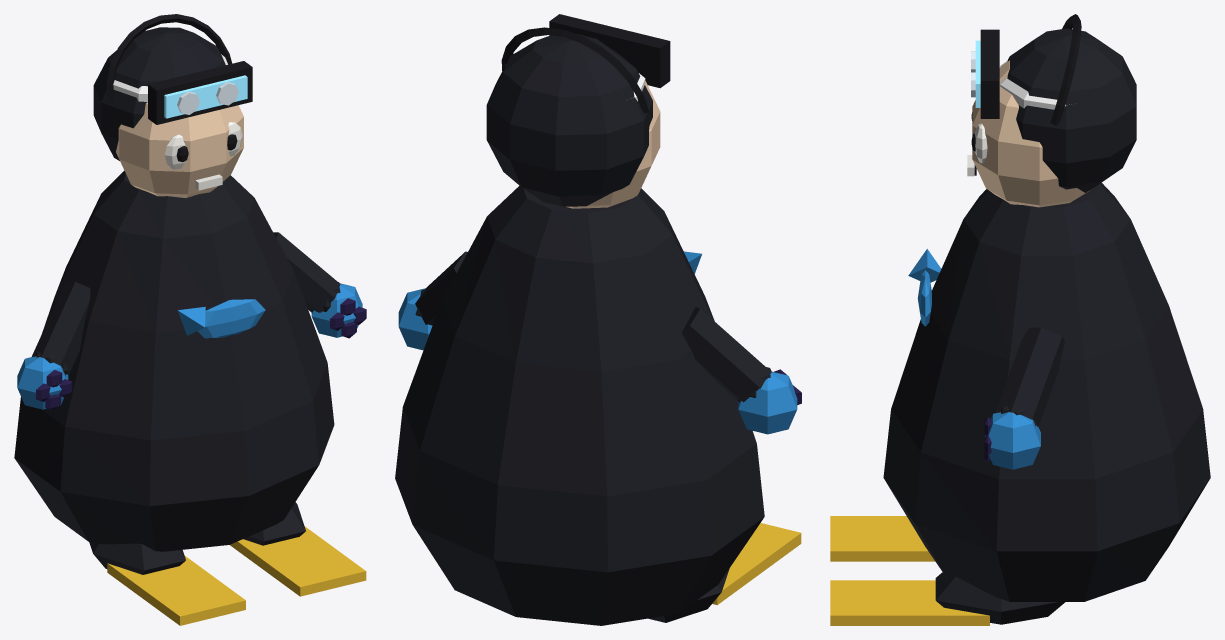
The model's file is npc_buzo.glb.
3 renders of one model, left to right at view 1: azimuth 30°, elevation 25°; view 2: azimuth 150°, elevation 25°; view 3: azimuth 270°, elevation 25°, orthographic. The views are drawn at different scales.
Parts seen in each view (by area): view 1: body_wetsuit, legs_flipper, head_skin_crema, hood_wetsuit, arms_wetsuit, mask_black, legs_wetsuit, body_wetsuit_trim, glove_left_wetsuit_trim, mask_mask_glass, glove_right_wetsuit_trim, ink_left_octopus_ink (+2 smaller); view 2: body_wetsuit, hood_wetsuit, arms_wetsuit, mask_black, legs_flipper, glove_left_wetsuit_trim, head_skin_crema, glove_right_wetsuit_trim, legs_wetsuit; view 3: body_wetsuit, hood_wetsuit, legs_flipper, head_skin_crema, arms_wetsuit, mask_black, legs_wetsuit, glove_right_wetsuit_trim, body_wetsuit_trim, hair_hair.
Part boxes in pixels (x1=…): body_wetsuit: x1=14, y1=170, x2=334, y2=551; legs_flipper: x1=107, y1=526, x2=366, y2=625; head_skin_crema: x1=116, y1=102, x2=243, y2=197; hood_wetsuit: x1=93, y1=27, x2=225, y2=160; arms_wetsuit: x1=31, y1=232, x2=340, y2=375; mask_black: x1=106, y1=14, x2=252, y2=124; legs_wetsuit: x1=89, y1=502, x2=305, y2=574; body_wetsuit_trim: x1=177, y1=299, x2=265, y2=338; glove_left_wetsuit_trim: x1=17, y1=356, x2=68, y2=409; mask_mask_glass: x1=164, y1=75, x2=247, y2=118; glove_right_wetsuit_trim: x1=311, y1=283, x2=362, y2=337; ink_left_octopus_ink: x1=36, y1=370, x2=72, y2=410; body_wetsuit: x1=395, y1=185, x2=764, y2=625; hood_wetsuit: x1=486, y1=34, x2=652, y2=206; arms_wetsuit: x1=415, y1=251, x2=771, y2=402; mask_black: x1=501, y1=14, x2=670, y2=113; legs_flipper: x1=712, y1=523, x2=801, y2=605; glove_left_wetsuit_trim: x1=738, y1=371, x2=797, y2=434; head_skin_crema: x1=566, y1=81, x2=660, y2=208; glove_right_wetsuit_trim: x1=398, y1=288, x2=432, y2=350; legs_wetsuit: x1=648, y1=568, x2=729, y2=622; body_wetsuit: x1=883, y1=182, x2=1210, y2=601; hood_wetsuit: x1=1007, y1=28, x2=1136, y2=192; legs_flipper: x1=830, y1=516, x2=989, y2=625; head_skin_crema: x1=972, y1=60, x2=1089, y2=207; arms_wetsuit: x1=996, y1=327, x2=1064, y2=427; mask_black: x1=980, y1=14, x2=1081, y2=125; legs_wetsuit: x1=935, y1=572, x2=1065, y2=624; glove_right_wetsuit_trim: x1=985, y1=412, x2=1040, y2=469; body_wetsuit_trim: x1=908, y1=249, x2=941, y2=326; hair_hair: x1=1000, y1=61, x2=1069, y2=109.
Size of the model in its own units: 1.15 by 1.63 by 1.
